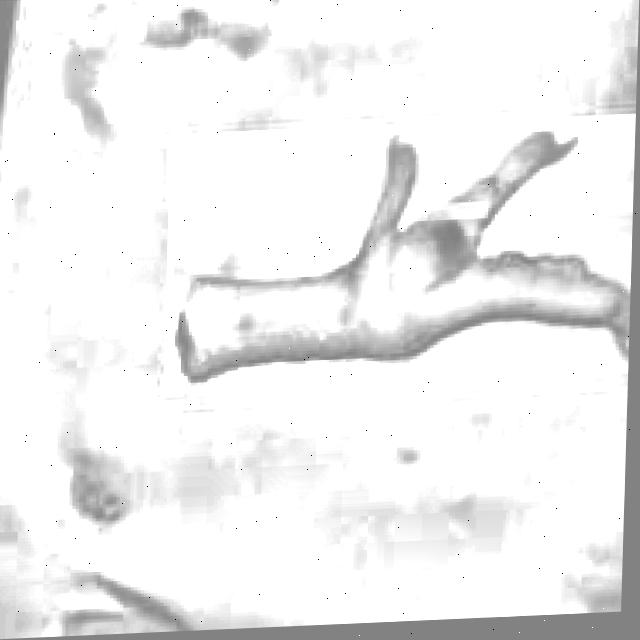Bumble foot: (169, 126, 637, 388)
